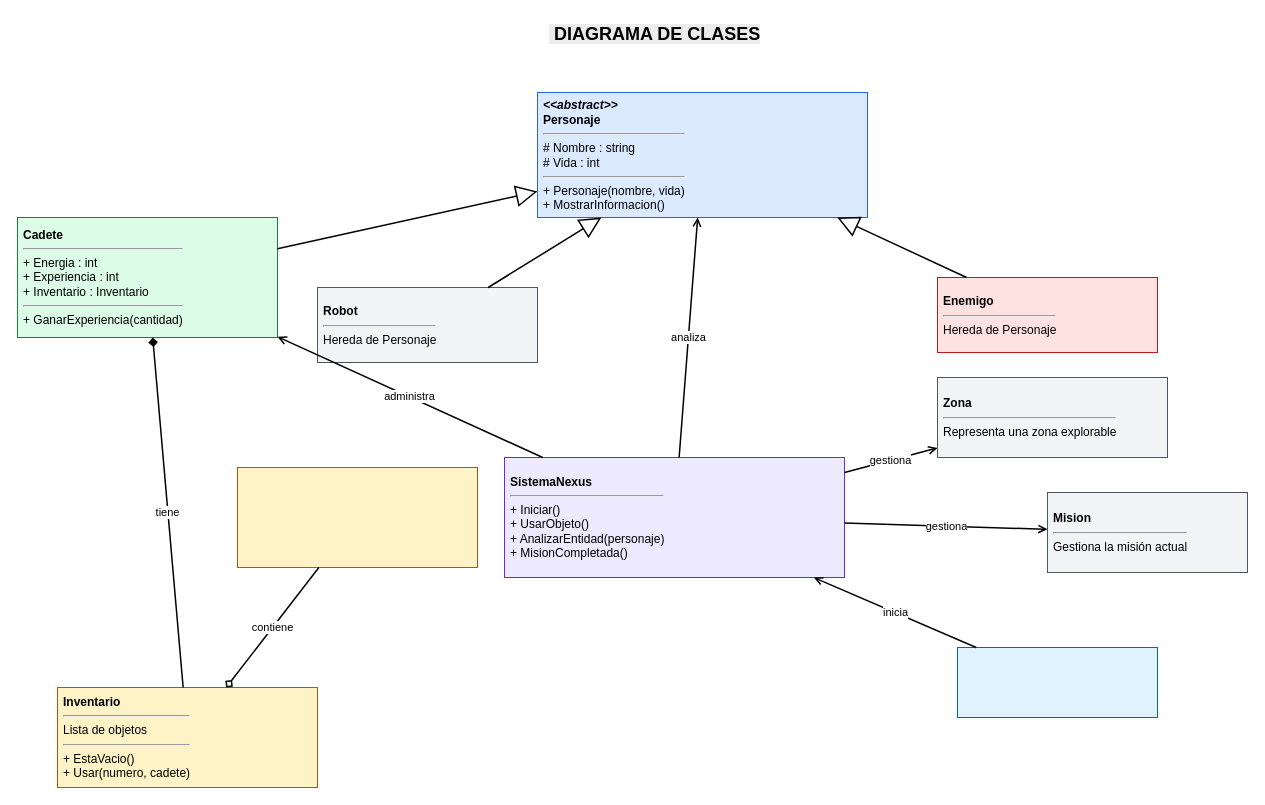
The diagram is 1265 pixels wide and 805 high, and some of its shapes have lost their labels. Here are the shapes that lost their labels. From the top down, the centre of each, then its label:
At point 357,517: "Objeto + Nombre : string + Tipo : string + Cantidad : int".
At point 1057,682: "Program + Main()".
